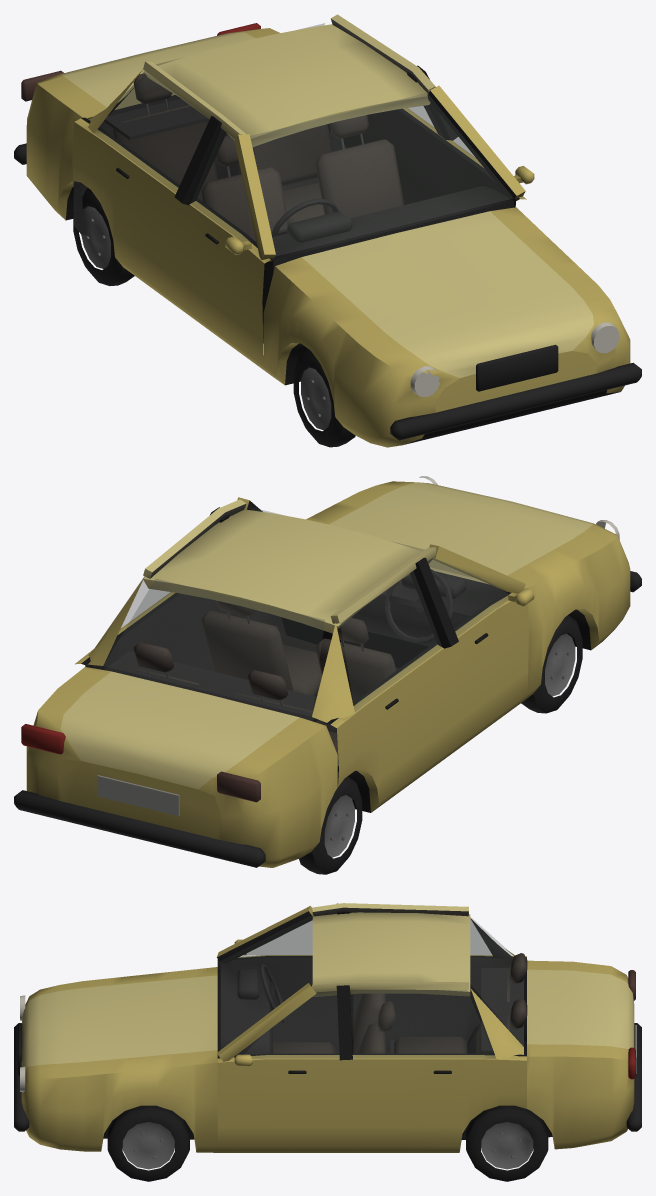
Rendered from old_sedan.glb.
3 views of the same model, one above another, from view 1: azimuth 30°, elevation 25°; view 2: azimuth 150°, elevation 25°; view 3: azimuth 270°, elevation 25° (orthographic). The views are drawn at different scales.
Parts seen in each view (by area): view 1: old_sedan, wheel_fr, wheel_rr; view 2: old_sedan, wheel_rr, wheel_fr; view 3: old_sedan, wheel_rl, wheel_fl.
Part boxes in pixels (x1,y1,x2,y2): old_sedan: [14, 14, 641, 447]; wheel_fr: [293, 349, 355, 447]; wheel_rr: [73, 188, 134, 285]; old_sedan: [14, 476, 641, 867]; wheel_rr: [299, 773, 362, 874]; wheel_fr: [521, 615, 582, 713]; old_sedan: [14, 903, 641, 1152]; wheel_rl: [466, 1105, 548, 1181]; wheel_fl: [107, 1105, 189, 1181].
Bounding box in the file's own units: 1.85 × 1.39 × 4.1.
Materials: 15 (4 with a texture image).
